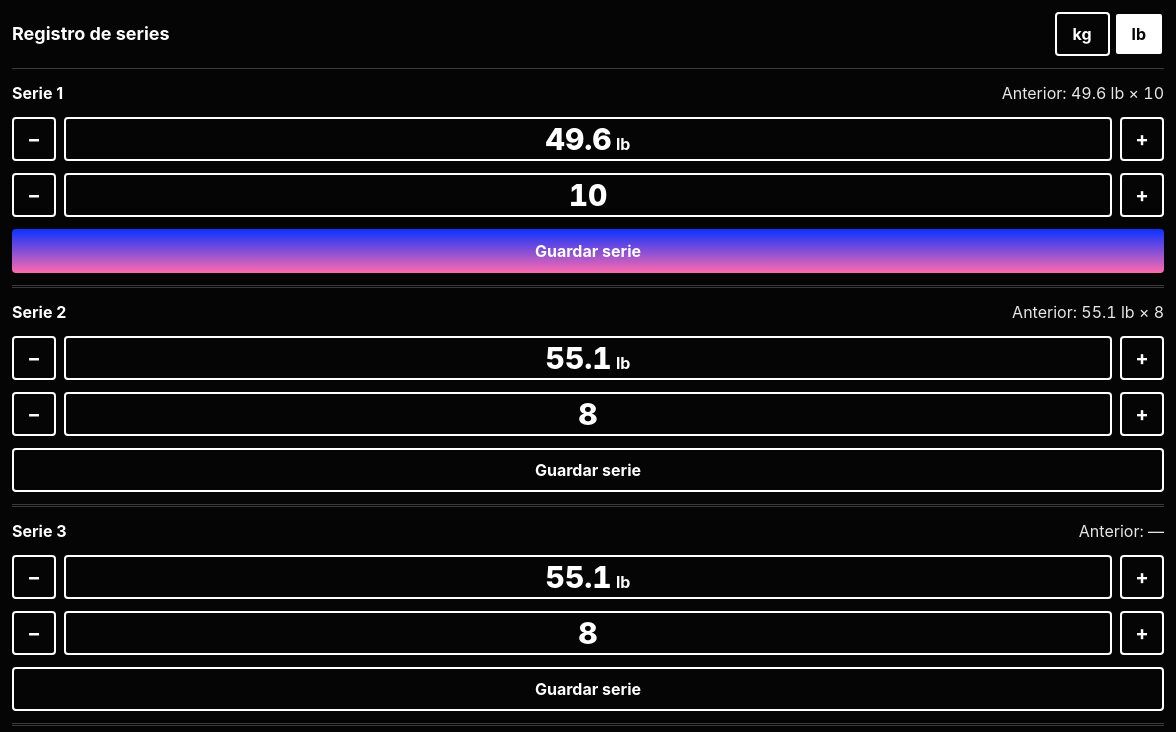
Test: LoggingSection — unidad de peso (08 R1, R4, R6, R7, R11, R14, R15) › R4: en lb el stepper de peso sube de 5 en 5 libras
Expected: the heading "Serie 1" is shown, [12, 81, 63, 105]
Step 1. Click the button named "Aumentar Peso serie 1" → (1142, 139), box [1120, 117, 1164, 161]
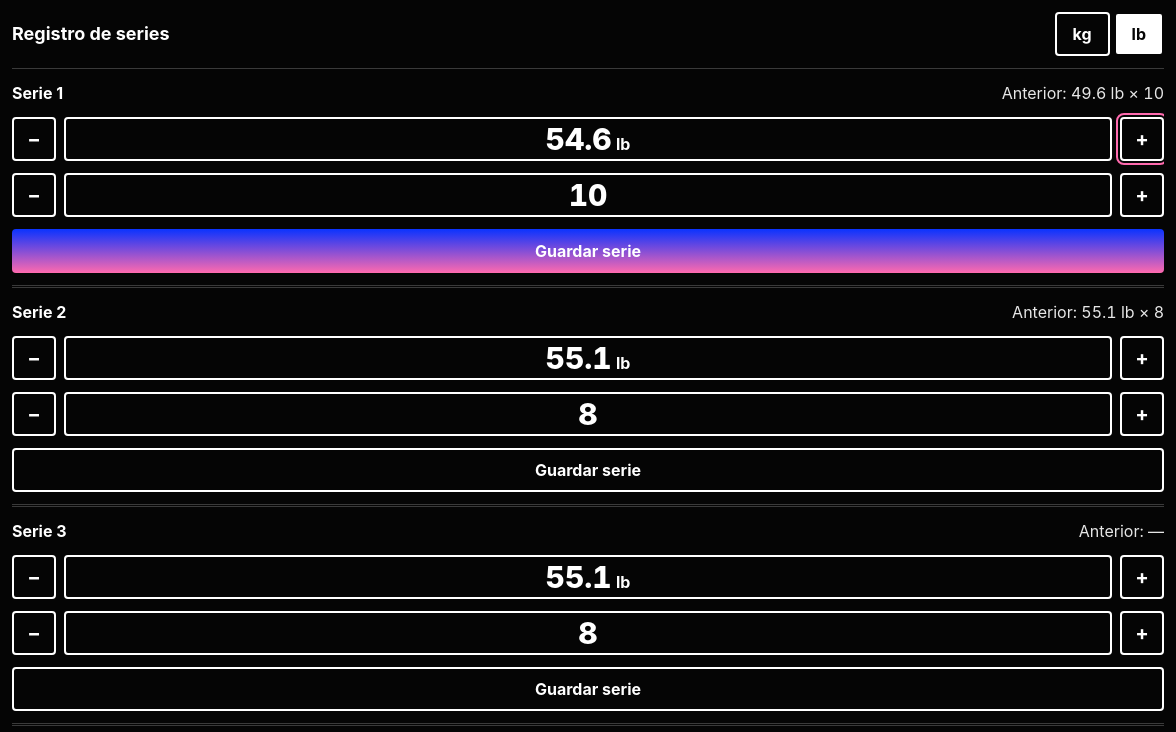
Now the button with aria-label "Peso serie 1" reads "54.6 lb", box [64, 117, 1112, 161]
